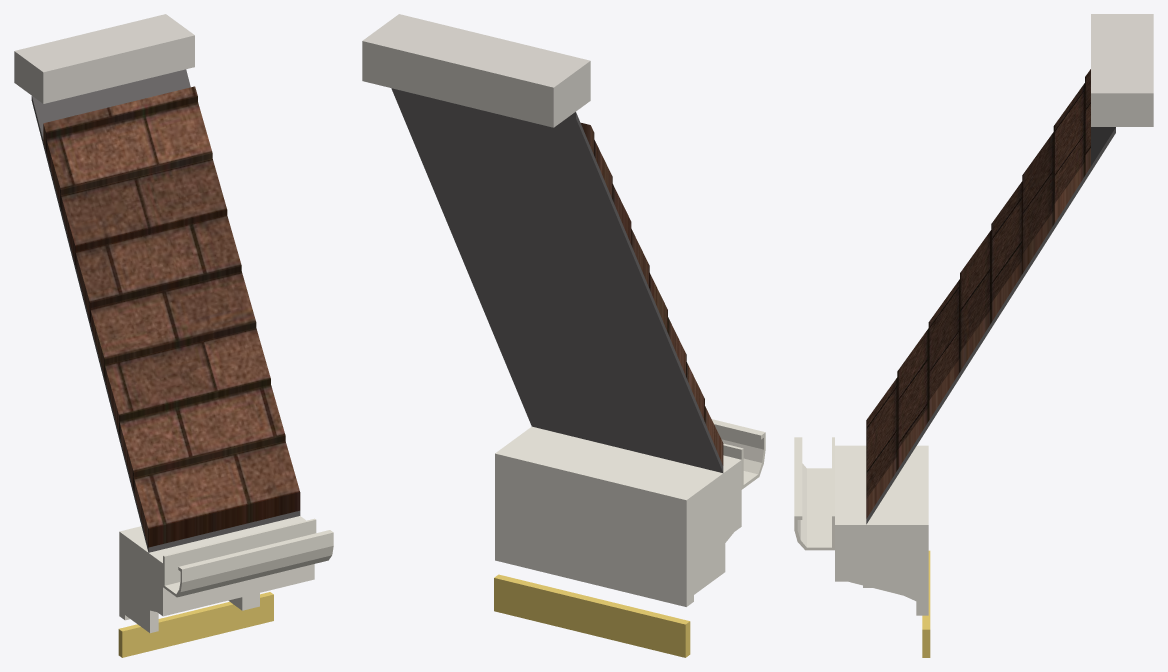
File: mans_tr.glb
3 renders of one model, left to right at view 1: azimuth 30°, elevation 25°; view 2: azimuth 150°, elevation 25°; view 3: azimuth 270°, elevation 25°, orthographic. The views are drawn at different scales.
Visible parts, largest first — view 1: mans_tr_shingles, mans_tr_cill, mans_tr_trim, mans_tr_gutter, mans_tr_dark, mans_tr_accent; view 2: mans_tr_dark, mans_tr_trim, mans_tr_cill, mans_tr_accent, mans_tr_shingles, mans_tr_gutter; view 3: mans_tr_shingles, mans_tr_trim, mans_tr_cill, mans_tr_gutter, mans_tr_dark, mans_tr_accent.
Part boxes in pixels (x1,y1,x2,y2): mans_tr_shingles: [43, 86, 300, 547]; mans_tr_cill: [14, 14, 194, 103]; mans_tr_trim: [119, 516, 314, 633]; mans_tr_gutter: [163, 518, 333, 597]; mans_tr_dark: [31, 69, 300, 552]; mans_tr_accent: [118, 592, 273, 657]; mans_tr_dark: [391, 88, 723, 472]; mans_tr_trim: [495, 426, 741, 606]; mans_tr_cill: [362, 14, 590, 127]; mans_tr_accent: [494, 574, 690, 657]; mans_tr_shingles: [581, 123, 723, 465]; mans_tr_gutter: [711, 419, 765, 489]; mans_tr_shingles: [866, 69, 1090, 518]; mans_tr_trim: [835, 445, 928, 615]; mans_tr_cill: [1091, 14, 1153, 126]; mans_tr_gutter: [794, 437, 834, 550]; mans_tr_dark: [866, 127, 1115, 524]; mans_tr_accent: [922, 550, 930, 657].
Size of the model in its own units: 0.6 by 2 by 1.15.
6 materials, 1 textured.
